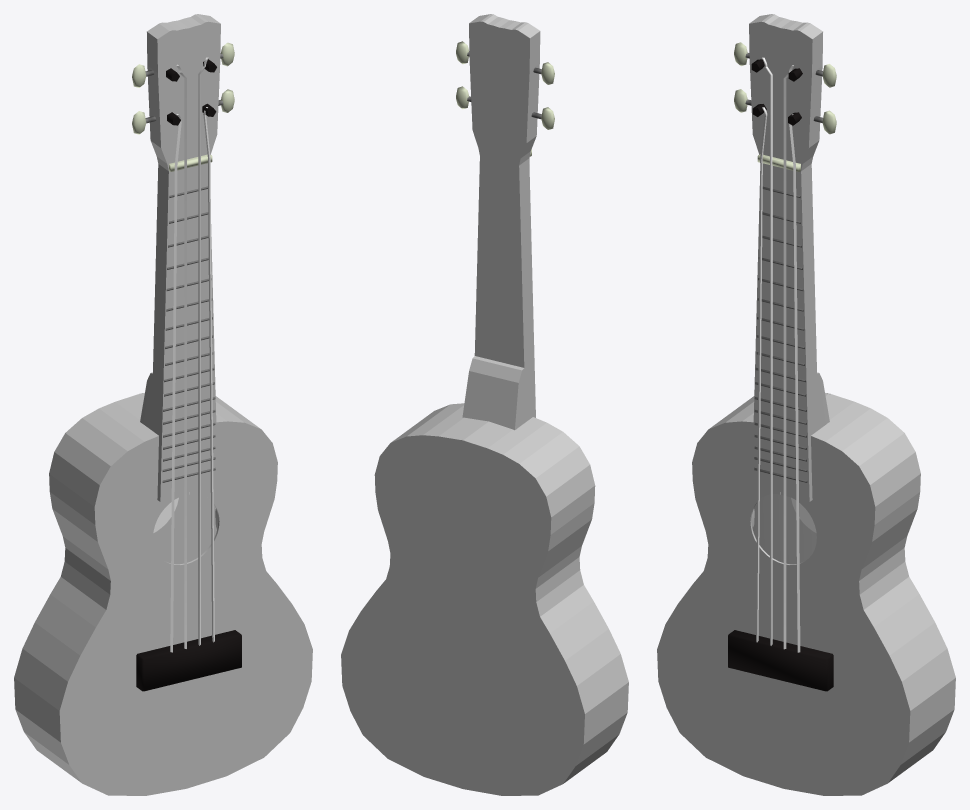
File: guitar.obj
3 renders of one model, left to right at view 1: azimuth 30°, elevation 25°; view 2: azimuth 150°, elevation 25°; view 3: azimuth 330°, elevation 25°, orthographic. The views are drawn at different scales.
Parts seen in each view (by area): view 1: Kasa, Klavye, strings, botp, fret, kul, tut; view 2: Kasa, Klavye, kul; view 3: Kasa, Klavye, strings, botp, fret, kul, tut.
Boxes of the visible parts, bbox=[...] form: Kasa: bbox=[14, 393, 312, 795]; Klavye: bbox=[140, 14, 220, 501]; strings: bbox=[170, 57, 214, 652]; botp: bbox=[136, 630, 241, 691]; fret: bbox=[162, 186, 215, 482]; kul: bbox=[132, 42, 234, 134]; tut: bbox=[166, 59, 216, 125]; Kasa: bbox=[341, 403, 628, 795]; Klavye: bbox=[462, 14, 540, 430]; kul: bbox=[456, 41, 554, 129]; Kasa: bbox=[657, 393, 955, 795]; Klavye: bbox=[749, 14, 829, 501]; strings: bbox=[756, 57, 800, 652]; botp: bbox=[728, 630, 833, 691]; fret: bbox=[754, 186, 807, 482]; kul: bbox=[734, 42, 836, 134]; tut: bbox=[751, 59, 802, 125].
Size of the model in its own units: 275 by 794 by 102.
